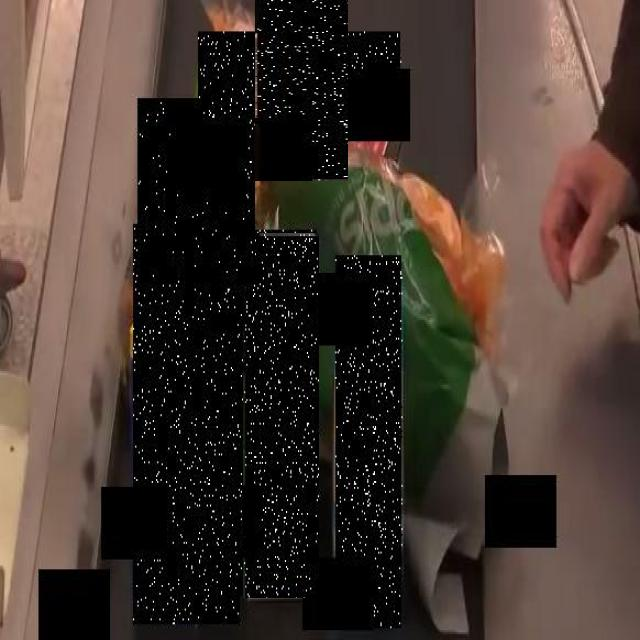food-box: (134, 224, 242, 624), (242, 232, 319, 598), (336, 255, 404, 628), (227, 5, 375, 154)
vegetable: (138, 98, 256, 287)
